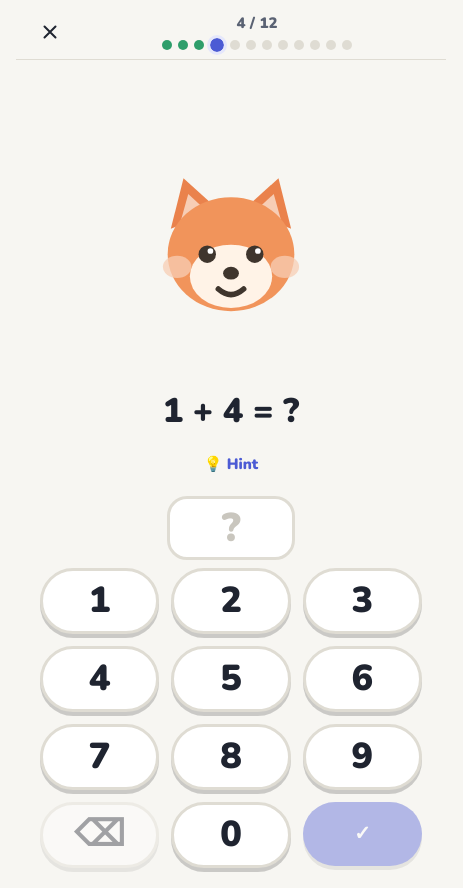
Test case: QuestionScreen — Hint harus benar-benar menolong › bantuan yang dibuka bisa ditutup lagi, lewat tombol maupun tanda silangnya
Click the button "💡 Hint": (231, 464) [188, 440, 274, 488]
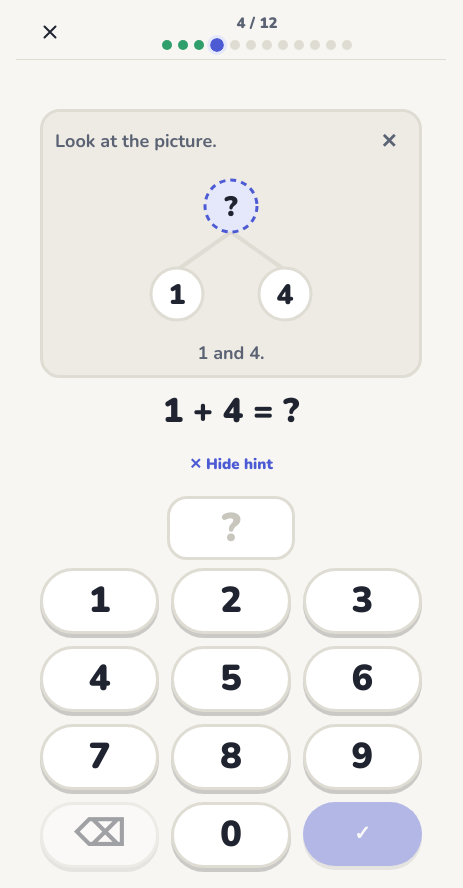
Now the text "Look at the picture." is shown, box [55, 128, 217, 155]
lewat tombol yang sama
Click the button "✕ Hide hint": (231, 464) [173, 440, 289, 488]
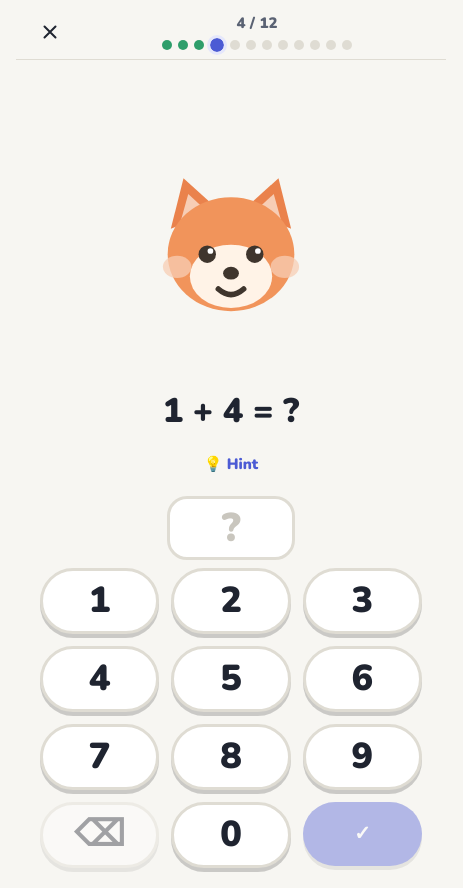
Now the text "Look at the picture" is gone
Now the button "💡 Hint" is shown
dibuka lagi — sekali tutup bukan berarti bantuan hilang selamanya
Click the button "💡 Hint": (231, 464) [188, 440, 274, 488]
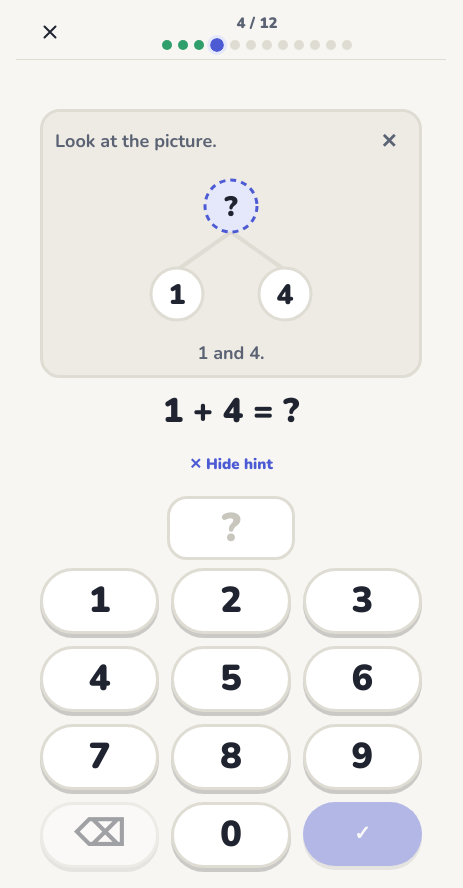
Now the text "Look at the picture." is shown, box [55, 128, 217, 155]
lewat silang di dalam bantuannya sendiri
Click the button named "Hide hint": (389, 142) [367, 120, 411, 164]
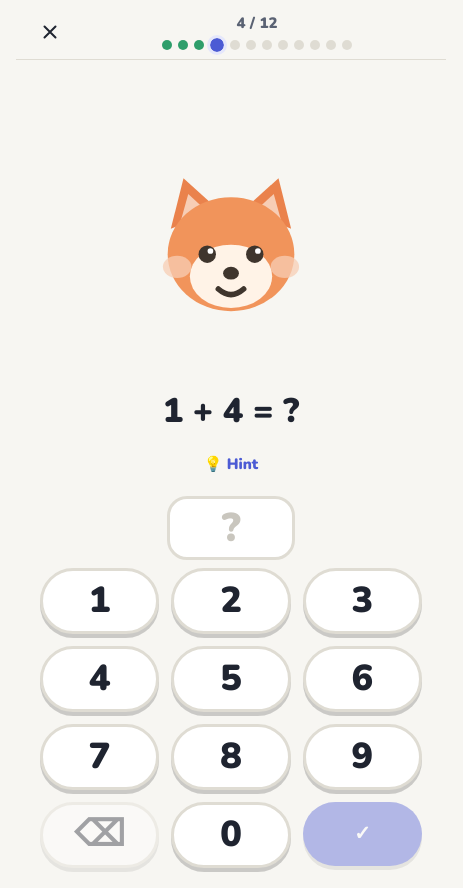
Now the text "Look at the picture" is gone
Now the button "💡 Hint" is shown, box [188, 440, 274, 488]
